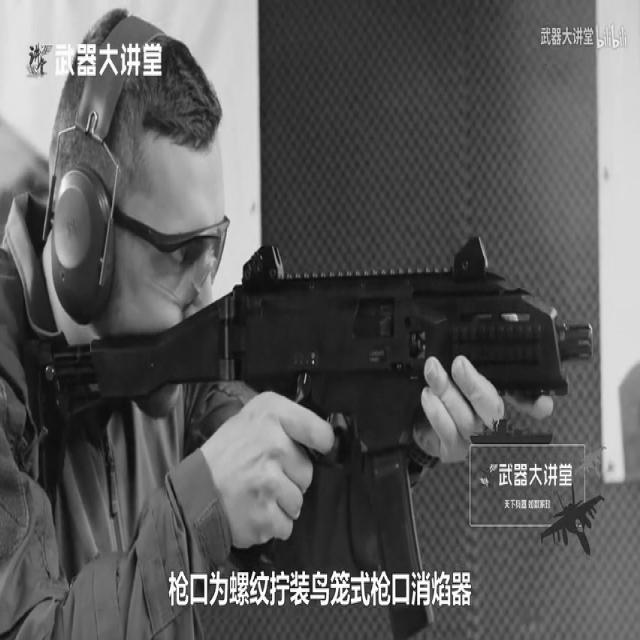Rifle: (30, 180, 614, 640)
